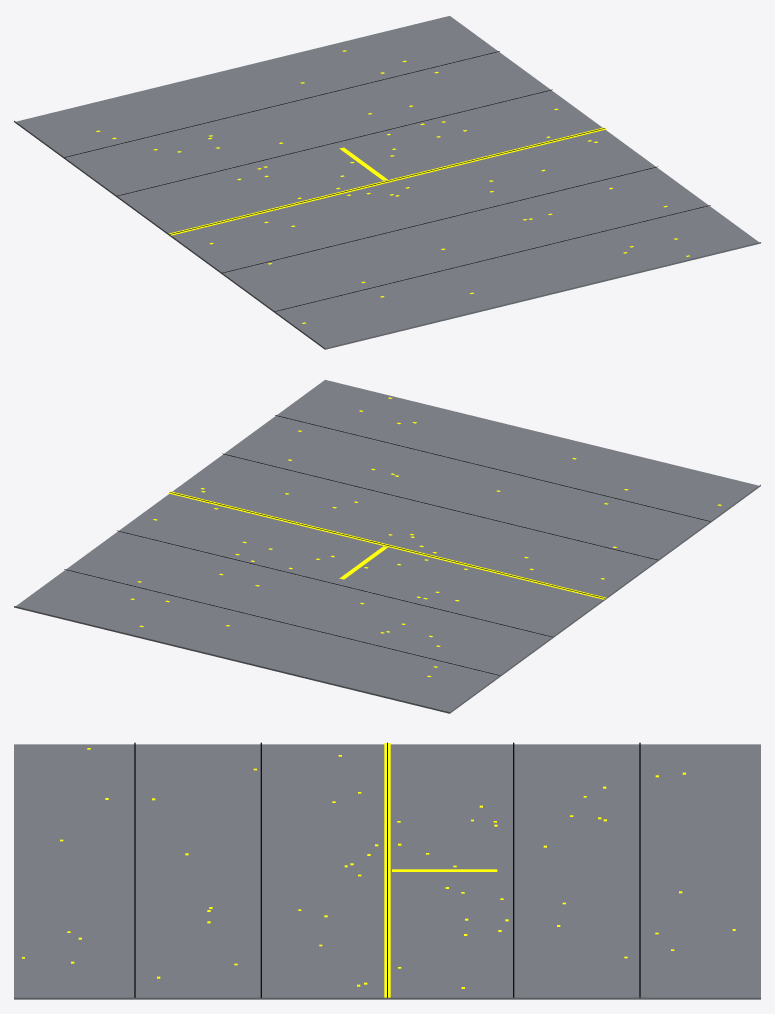
File: v1_court_floor.glb
3 renders of one model, top to bottom at view 1: azimuth 30°, elevation 25°; view 2: azimuth 150°, elevation 25°; view 3: azimuth 270°, elevation 25°, orthographic. The views are drawn at different scales.
Visible parts, largest first — view 1: Terrazzo, Joint_Lines, Court_Inlay; view 2: Terrazzo, Joint_Lines, Court_Inlay; view 3: Terrazzo, Joint_Lines, Court_Inlay, Terrazzo_Chips.
Part boxes in pixels (bbox=[...]): Terrazzo: bbox=[14, 16, 760, 349]; Joint_Lines: bbox=[64, 51, 710, 311]; Court_Inlay: bbox=[169, 127, 606, 235]; Terrazzo: bbox=[14, 380, 760, 713]; Joint_Lines: bbox=[64, 415, 710, 675]; Court_Inlay: bbox=[168, 491, 606, 599]; Terrazzo: bbox=[14, 744, 760, 999]; Joint_Lines: bbox=[134, 742, 640, 997]; Court_Inlay: bbox=[384, 743, 497, 997]; Terrazzo_Chips: bbox=[22, 748, 735, 988].
Size of what is drawn, in the model's own units: 5.5 by 0.022 by 6.8.
Materials: 3 (1 with a texture image).
